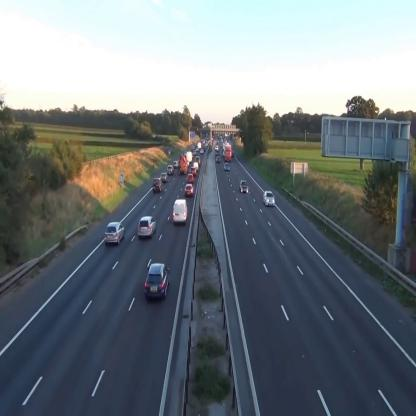car: (144, 264, 170, 300), (105, 222, 125, 245), (138, 216, 156, 239), (263, 190, 275, 206), (153, 178, 163, 193), (239, 180, 249, 194), (184, 184, 194, 197), (160, 172, 168, 182), (167, 165, 174, 174), (224, 162, 230, 172), (188, 174, 193, 184)
lorry: (172, 199, 188, 224), (179, 154, 188, 176)
